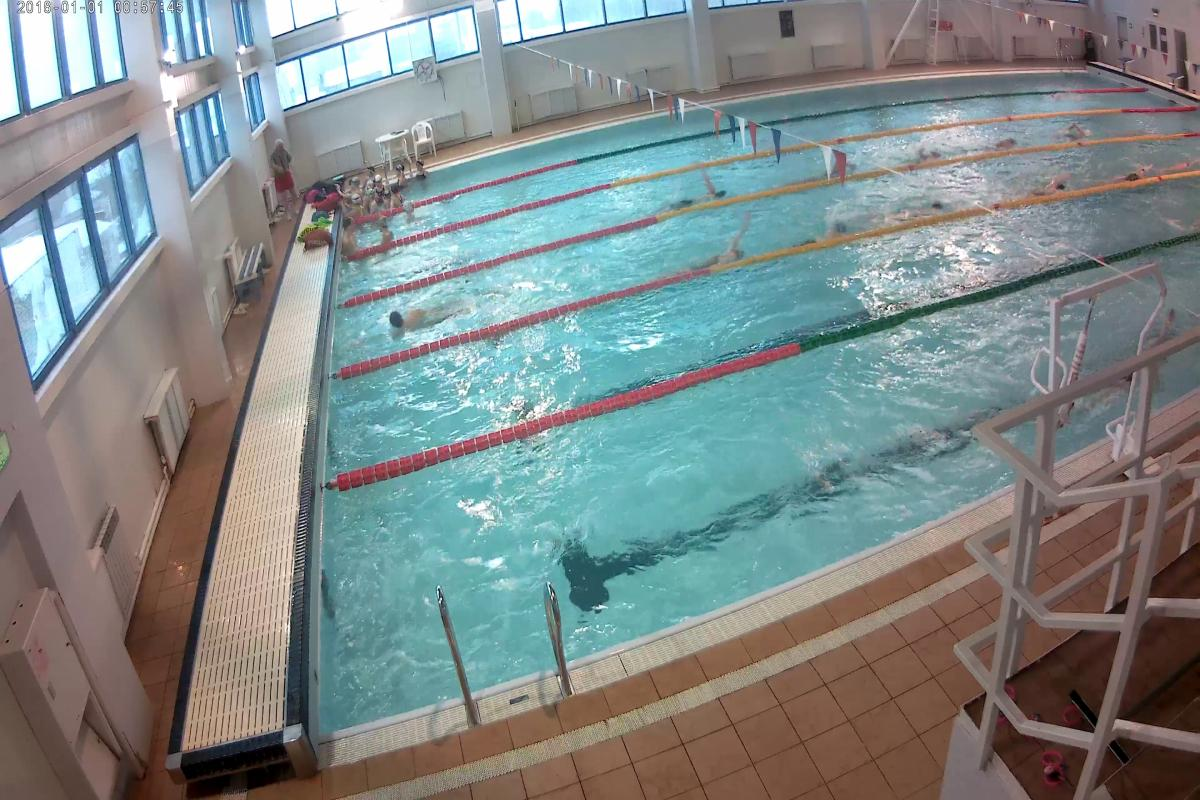swimmer: (385, 296, 460, 343), (682, 230, 752, 270), (680, 178, 729, 206), (1032, 166, 1078, 194), (899, 198, 946, 217), (1116, 161, 1152, 184), (1058, 120, 1094, 138)
